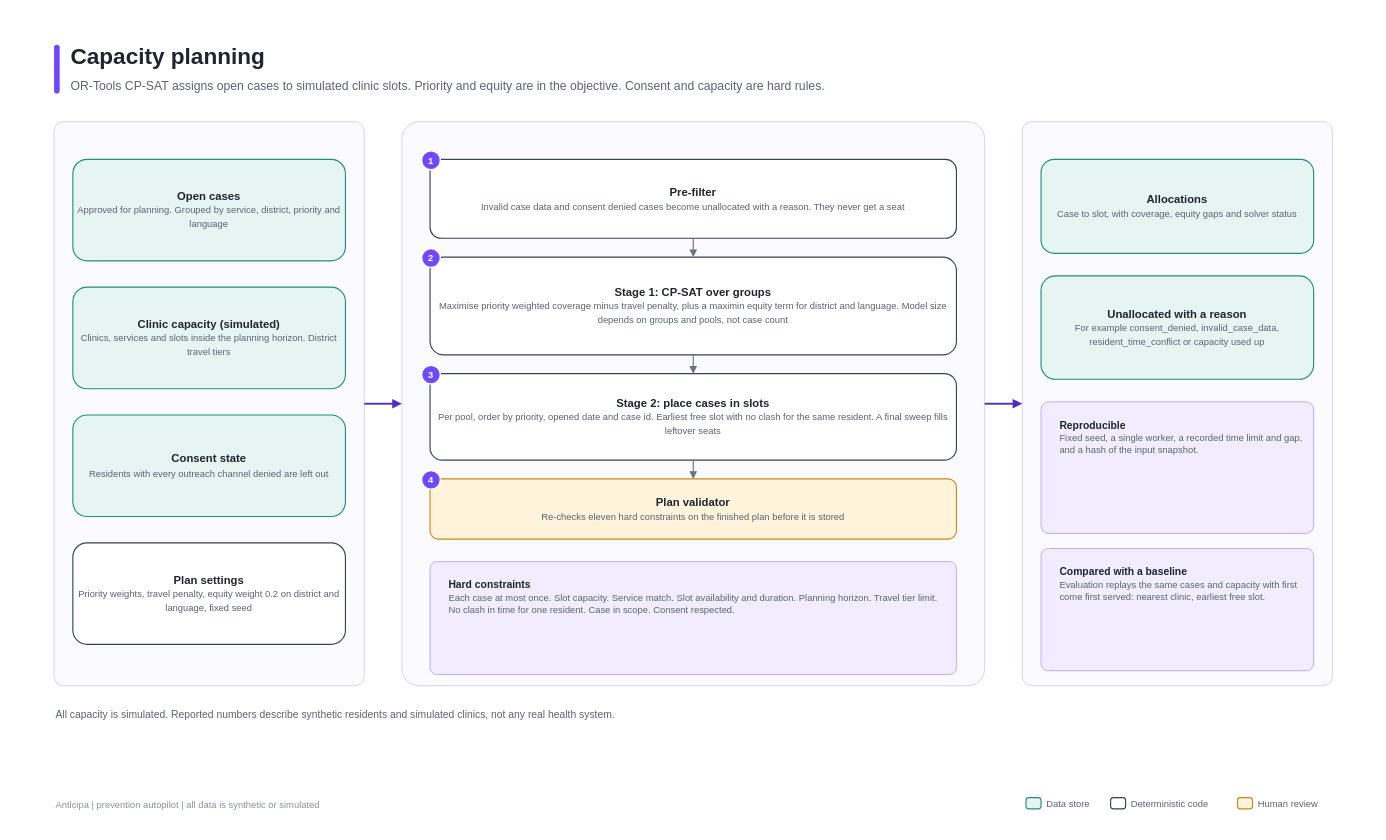
Image size: 1386x840. Some labels were removed from this diagram. Each missing label, with the box of its shape:
INPUTS: (53, 121, 364, 686)
OUTPUTS: (1021, 121, 1332, 686)
PLANNER: (401, 121, 985, 686)
